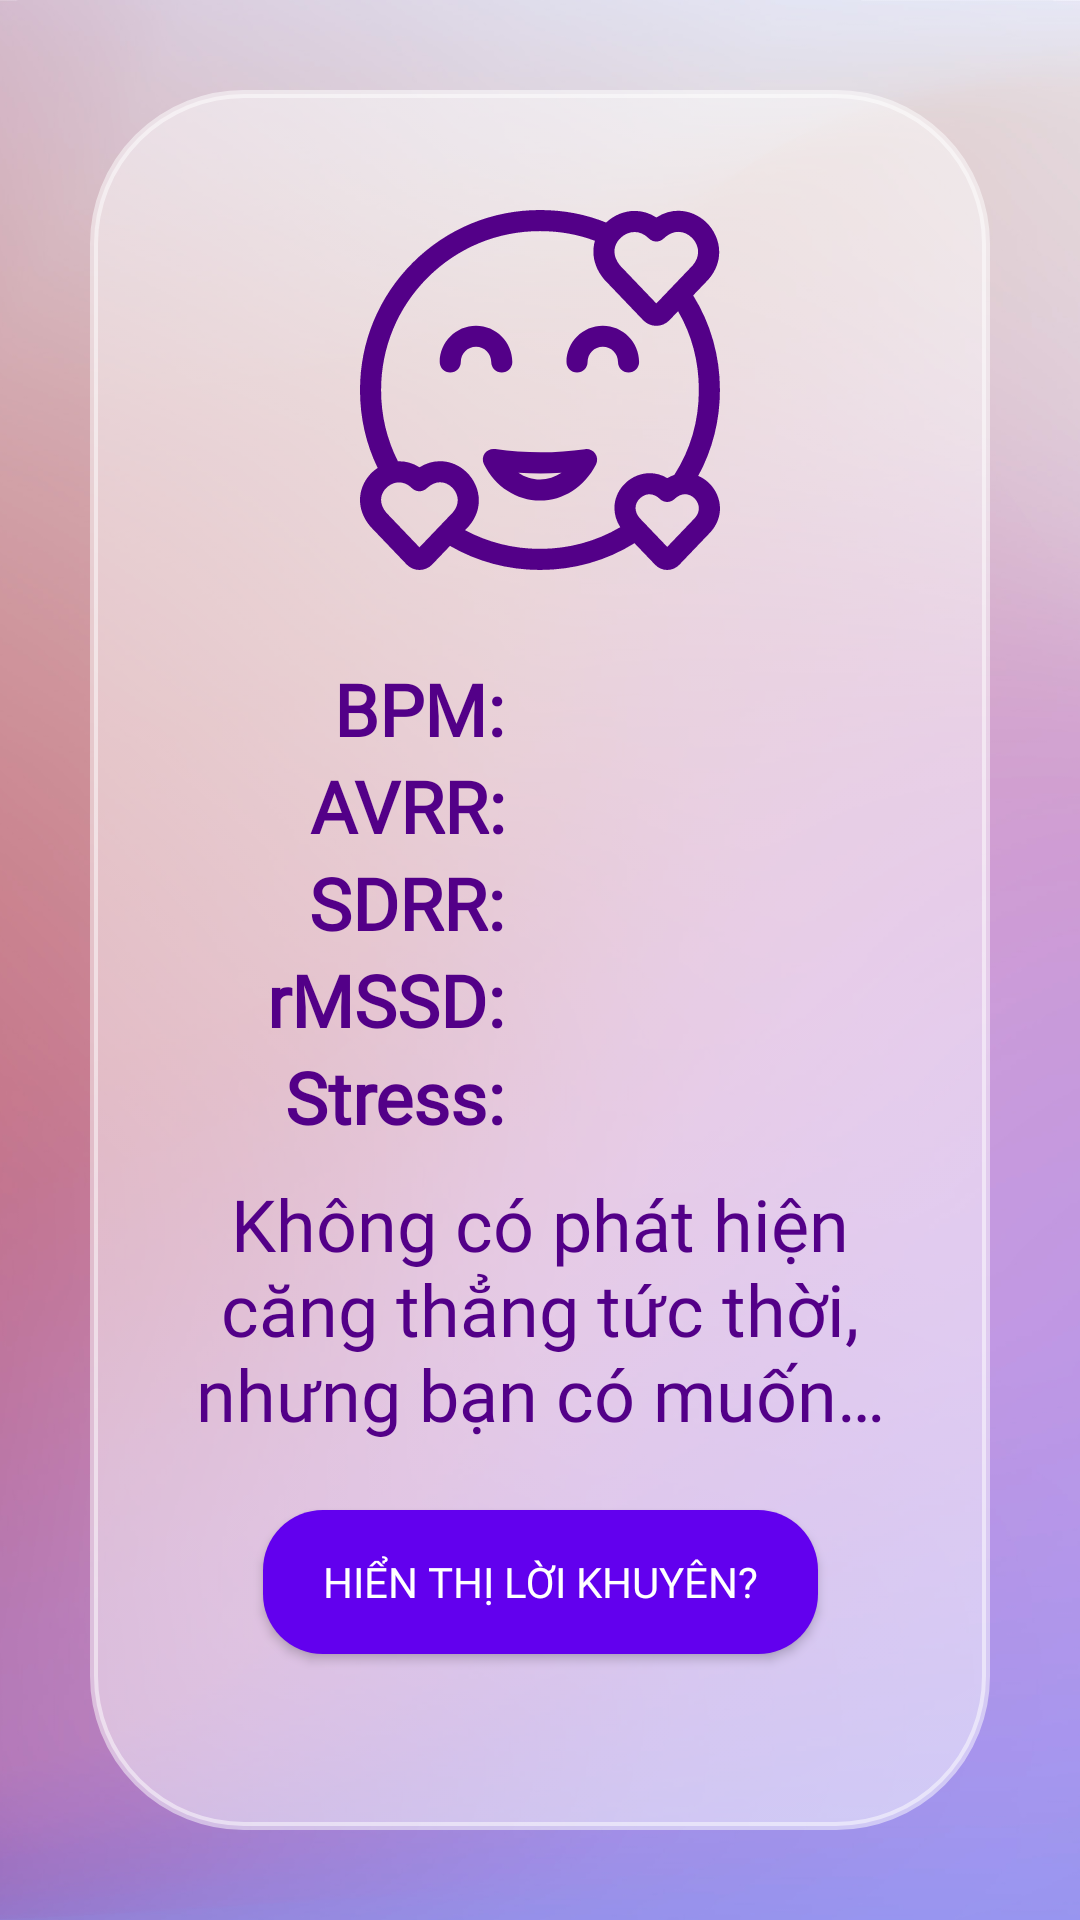

Point at icon controls on the screen. Image size 1080 × 1920, points as [x,y].
in love: [540,390]
